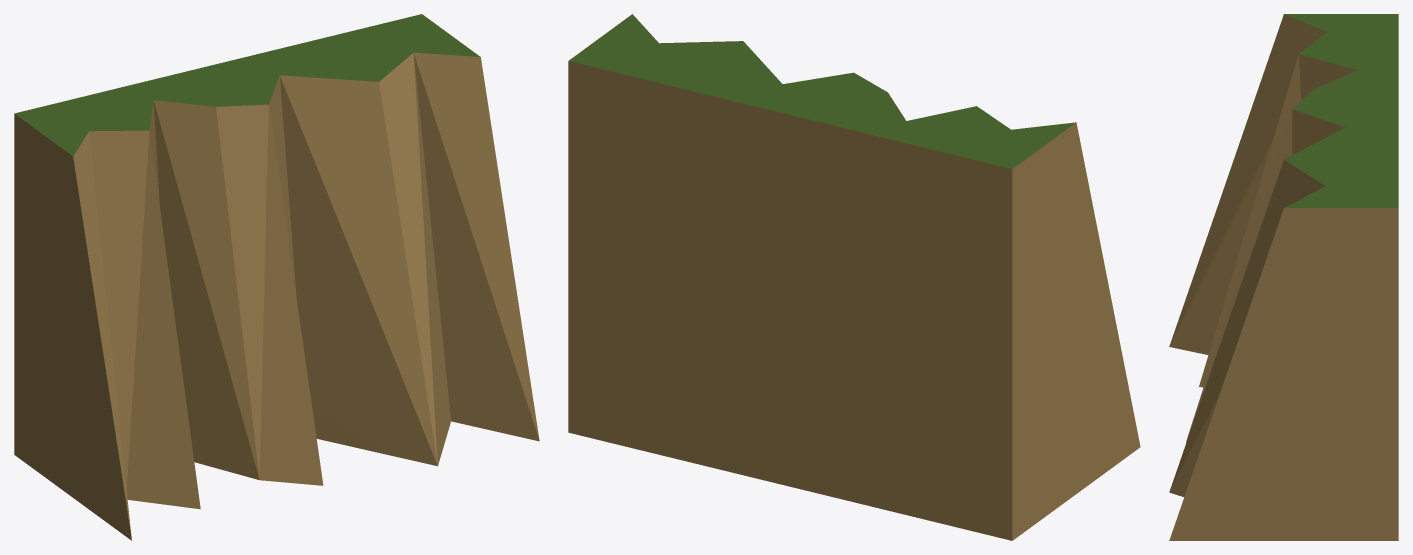
Rendered from Terrain_Modular_Tiles_Grass_Dirt_Cliff_Side_Outer_02.fbx.
3 views of the same model, side by side, from view 1: azimuth 30°, elevation 25°; view 2: azimuth 150°, elevation 25°; view 3: azimuth 270°, elevation 25° (orthographic). The views are drawn at different scales.
Parts seen in each view (by area): view 1: Terrain_Modular_Tiles_Grass_Dirt_Cliff_Side_Outer_02; view 2: Terrain_Modular_Tiles_Grass_Dirt_Cliff_Side_Outer_02; view 3: Terrain_Modular_Tiles_Grass_Dirt_Cliff_Side_Outer_02.
Part boxes in pixels (x1,y1,x2,y2): Terrain_Modular_Tiles_Grass_Dirt_Cliff_Side_Outer_02: [14, 14, 539, 540]; Terrain_Modular_Tiles_Grass_Dirt_Cliff_Side_Outer_02: [568, 14, 1140, 540]; Terrain_Modular_Tiles_Grass_Dirt_Cliff_Side_Outer_02: [1169, 14, 1398, 540].
Size of the model in its own units: 118 by 94.49 by 59.06.
